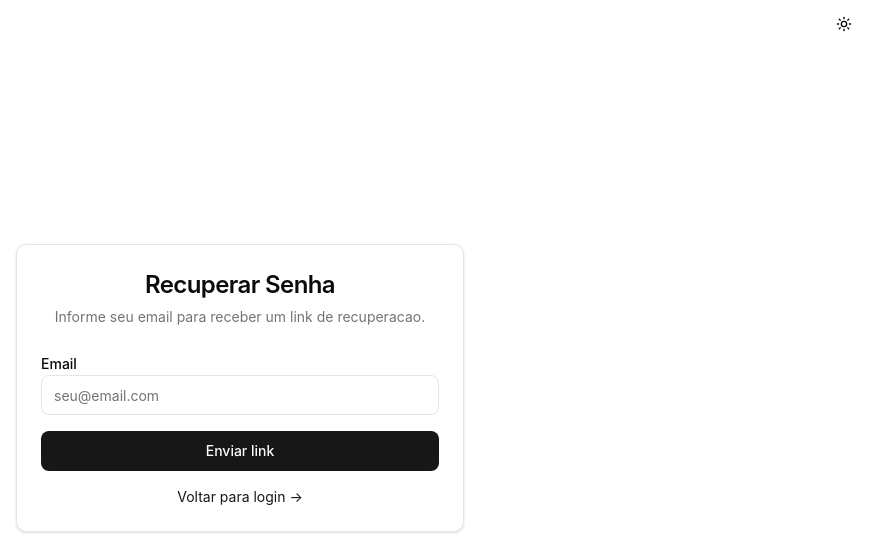
ForgotPasswordPage › shows success message after submitting valid email
Type "user@example.com" into the field labelled "Email". click: point(240, 395)
box: [41,375,439,415]
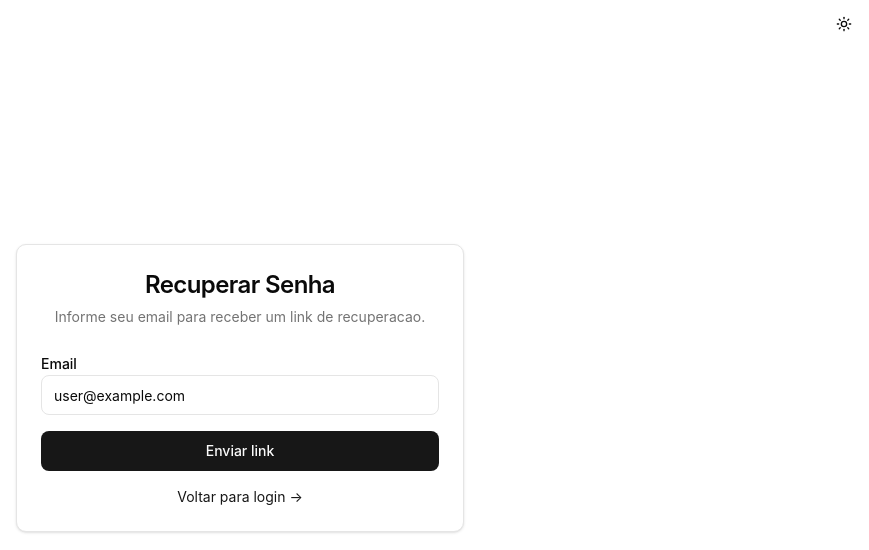
Click the button "Enviar link". click: point(240, 451)
box: [41,431,439,471]
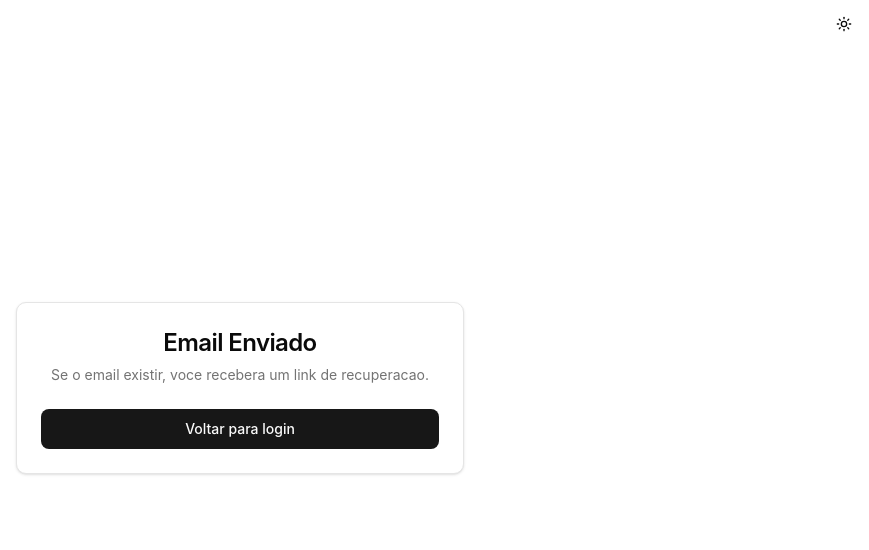
Result: the text "Se o email existir, voce recebera um link de recuperacao." is shown at [41,365,439,385]
